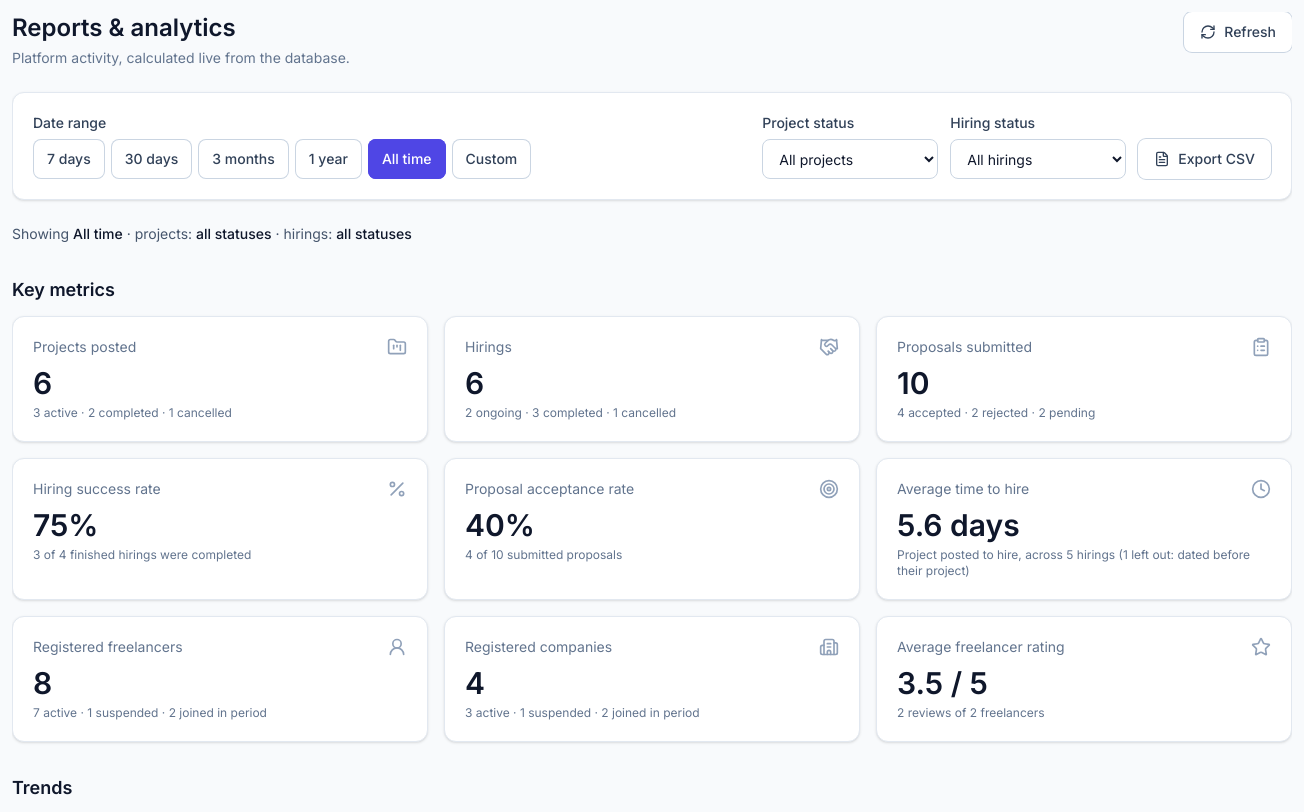
it: the page › a failed export says why and downloads nothing
The width and height of the screenshot is (1304, 812).
Expected: the heading "Key metrics" is shown, [12,279,115,300]
Step 1. Click the button "Export CSV" → (1205,159), box [1138,139,1271,179]
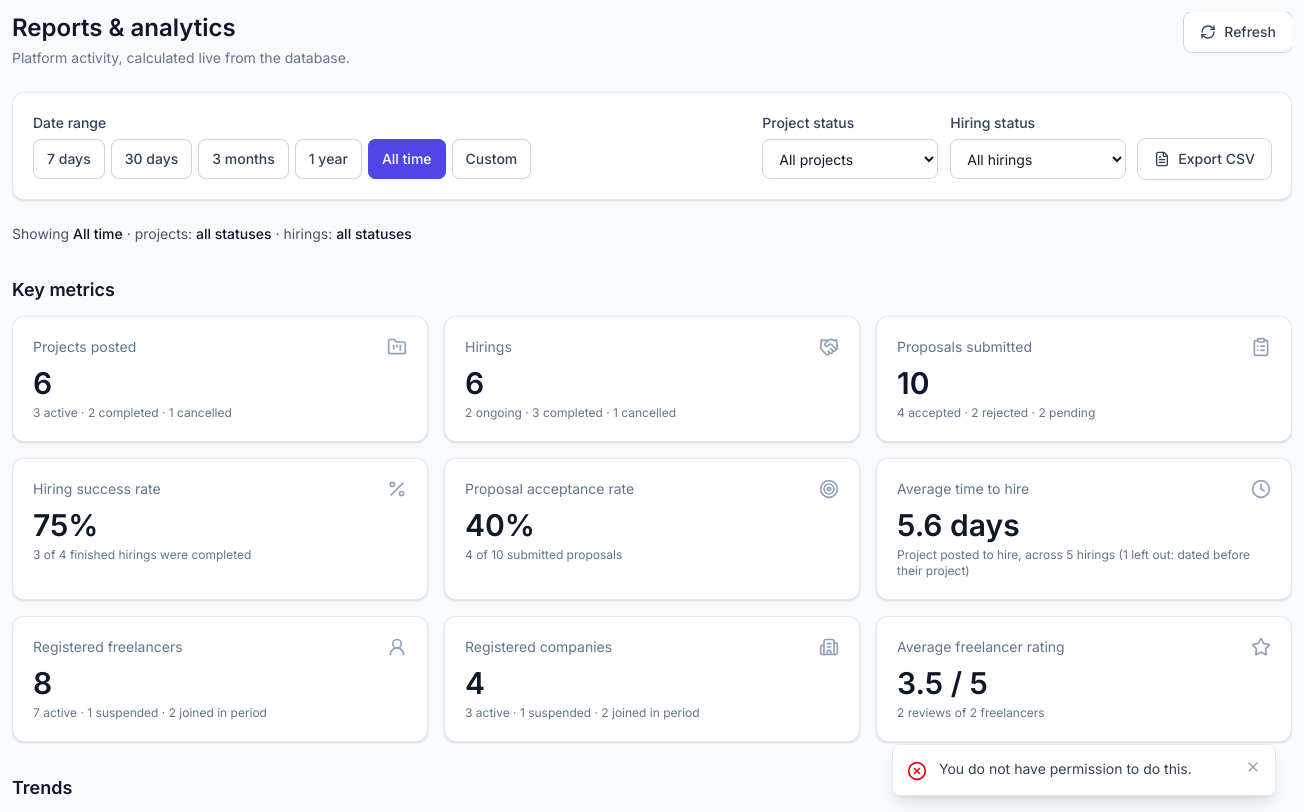
Result: the text "You do not have permission to do this." is shown at [939,759,1233,779]
